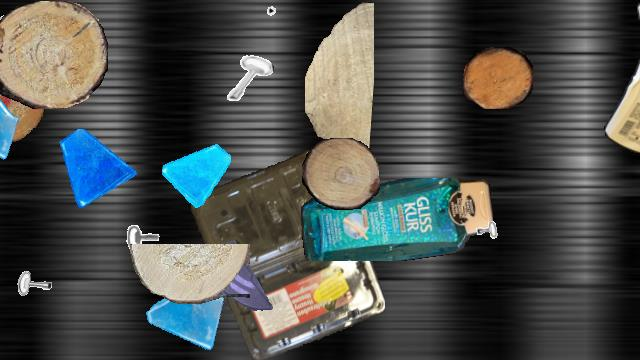glass: (144, 275, 228, 359), (57, 129, 137, 209), (198, 234, 278, 314), (162, 139, 230, 207), (0, 97, 21, 165)
metal: (11, 247, 63, 299), (223, 52, 273, 102), (124, 206, 170, 252), (467, 197, 511, 241), (266, 1, 306, 41), (0, 1, 25, 61)
plastic: (191, 149, 385, 359), (301, 178, 493, 260), (598, 1, 640, 153)
wood: (0, 1, 107, 109), (305, 1, 373, 159), (130, 244, 250, 304), (0, 20, 47, 142), (302, 138, 380, 210), (463, 47, 533, 109)
